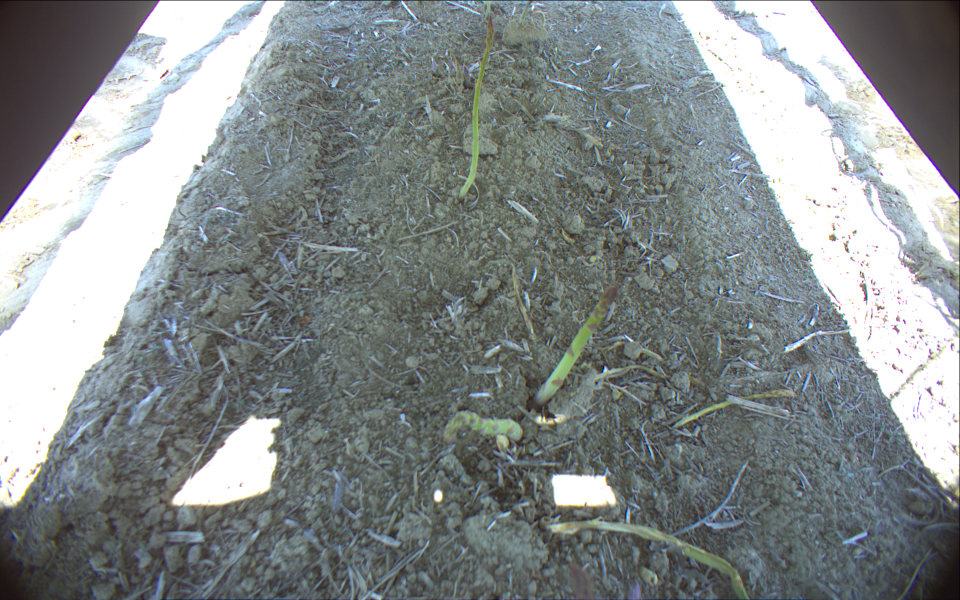aspa: (531, 281, 619, 410), (455, 10, 499, 204), (440, 405, 523, 448)
